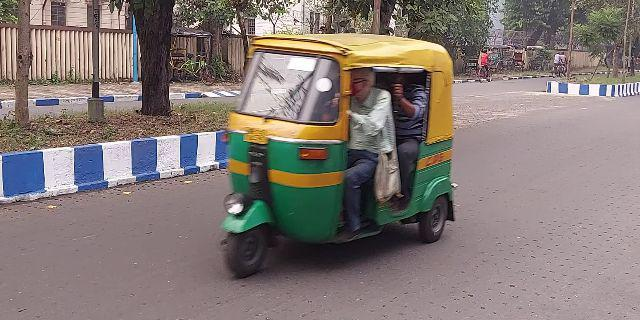Autorickshaw: (223, 28, 457, 280)
